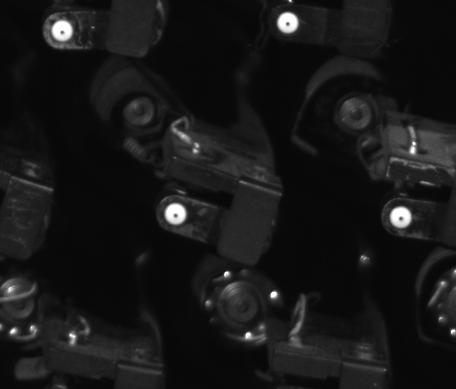fiber: (385, 203, 420, 236), (161, 200, 193, 230), (47, 17, 79, 46), (273, 10, 304, 37)
